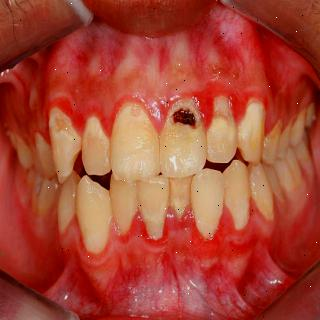Gum Swelling: (41, 76, 279, 139), (79, 201, 257, 269), (106, 205, 253, 259)
cavities: (171, 97, 199, 139)
maligned: (72, 175, 112, 258), (76, 103, 114, 175), (193, 165, 227, 245), (138, 167, 172, 241)
plaque: (112, 96, 158, 177), (193, 190, 225, 246), (140, 188, 172, 242), (81, 113, 113, 153), (250, 186, 278, 225), (226, 192, 249, 234), (172, 177, 192, 221)
